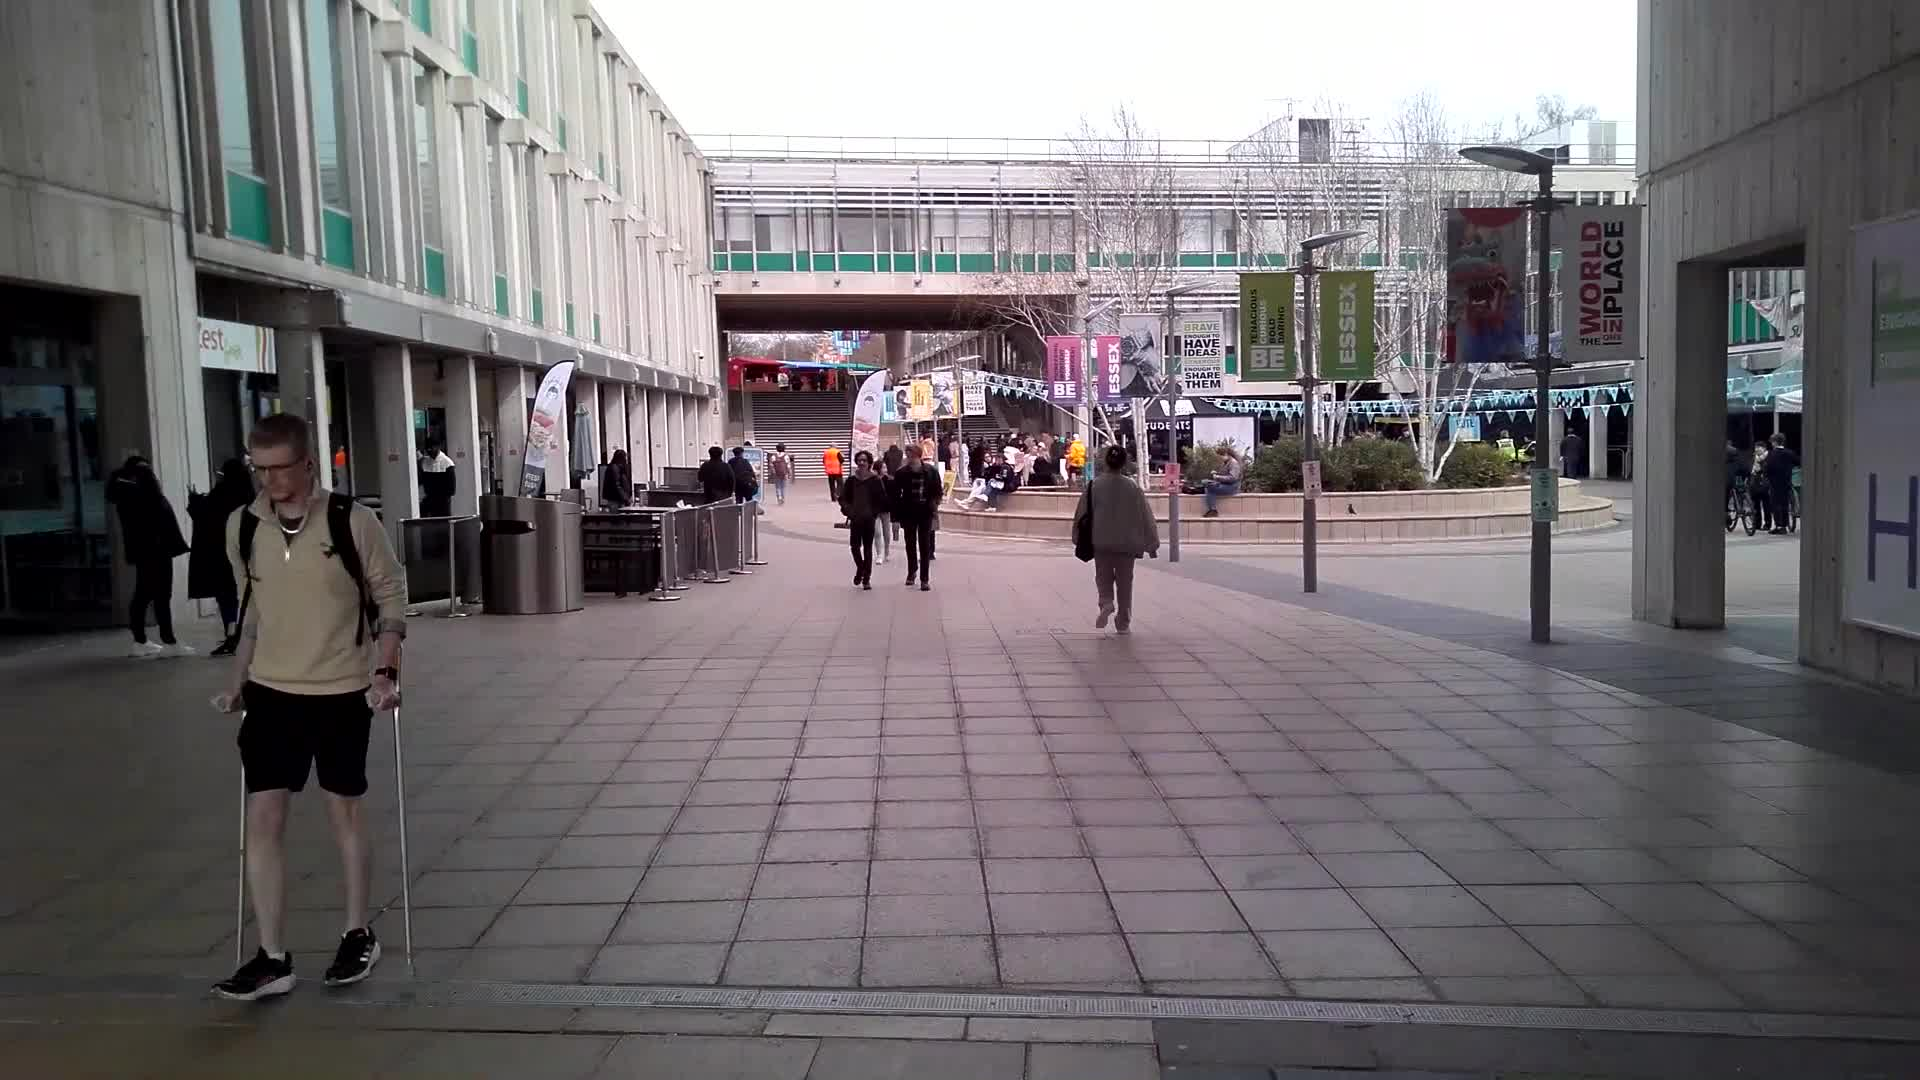Bin: (476, 494, 592, 613)
Person: (228, 409, 409, 1006), (106, 449, 196, 662), (1092, 443, 1160, 638), (896, 442, 940, 586), (846, 450, 890, 594), (1198, 447, 1246, 527), (728, 441, 760, 506), (701, 445, 728, 502)
